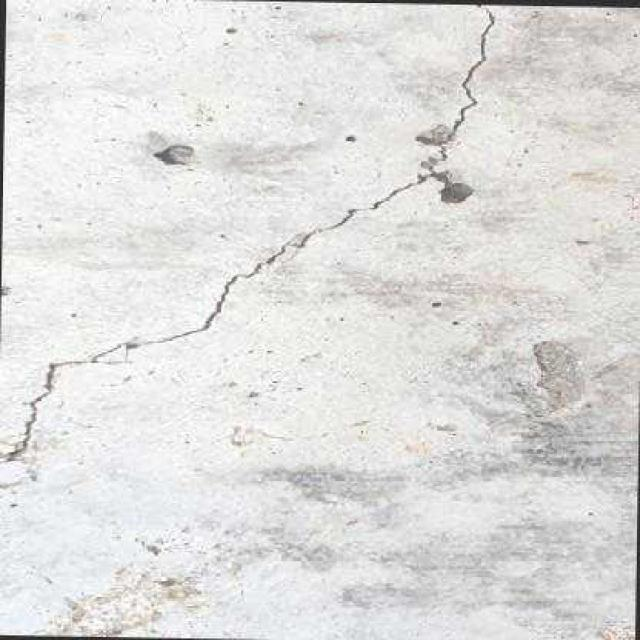D00: (0, 243, 287, 460), (280, 3, 496, 264)
